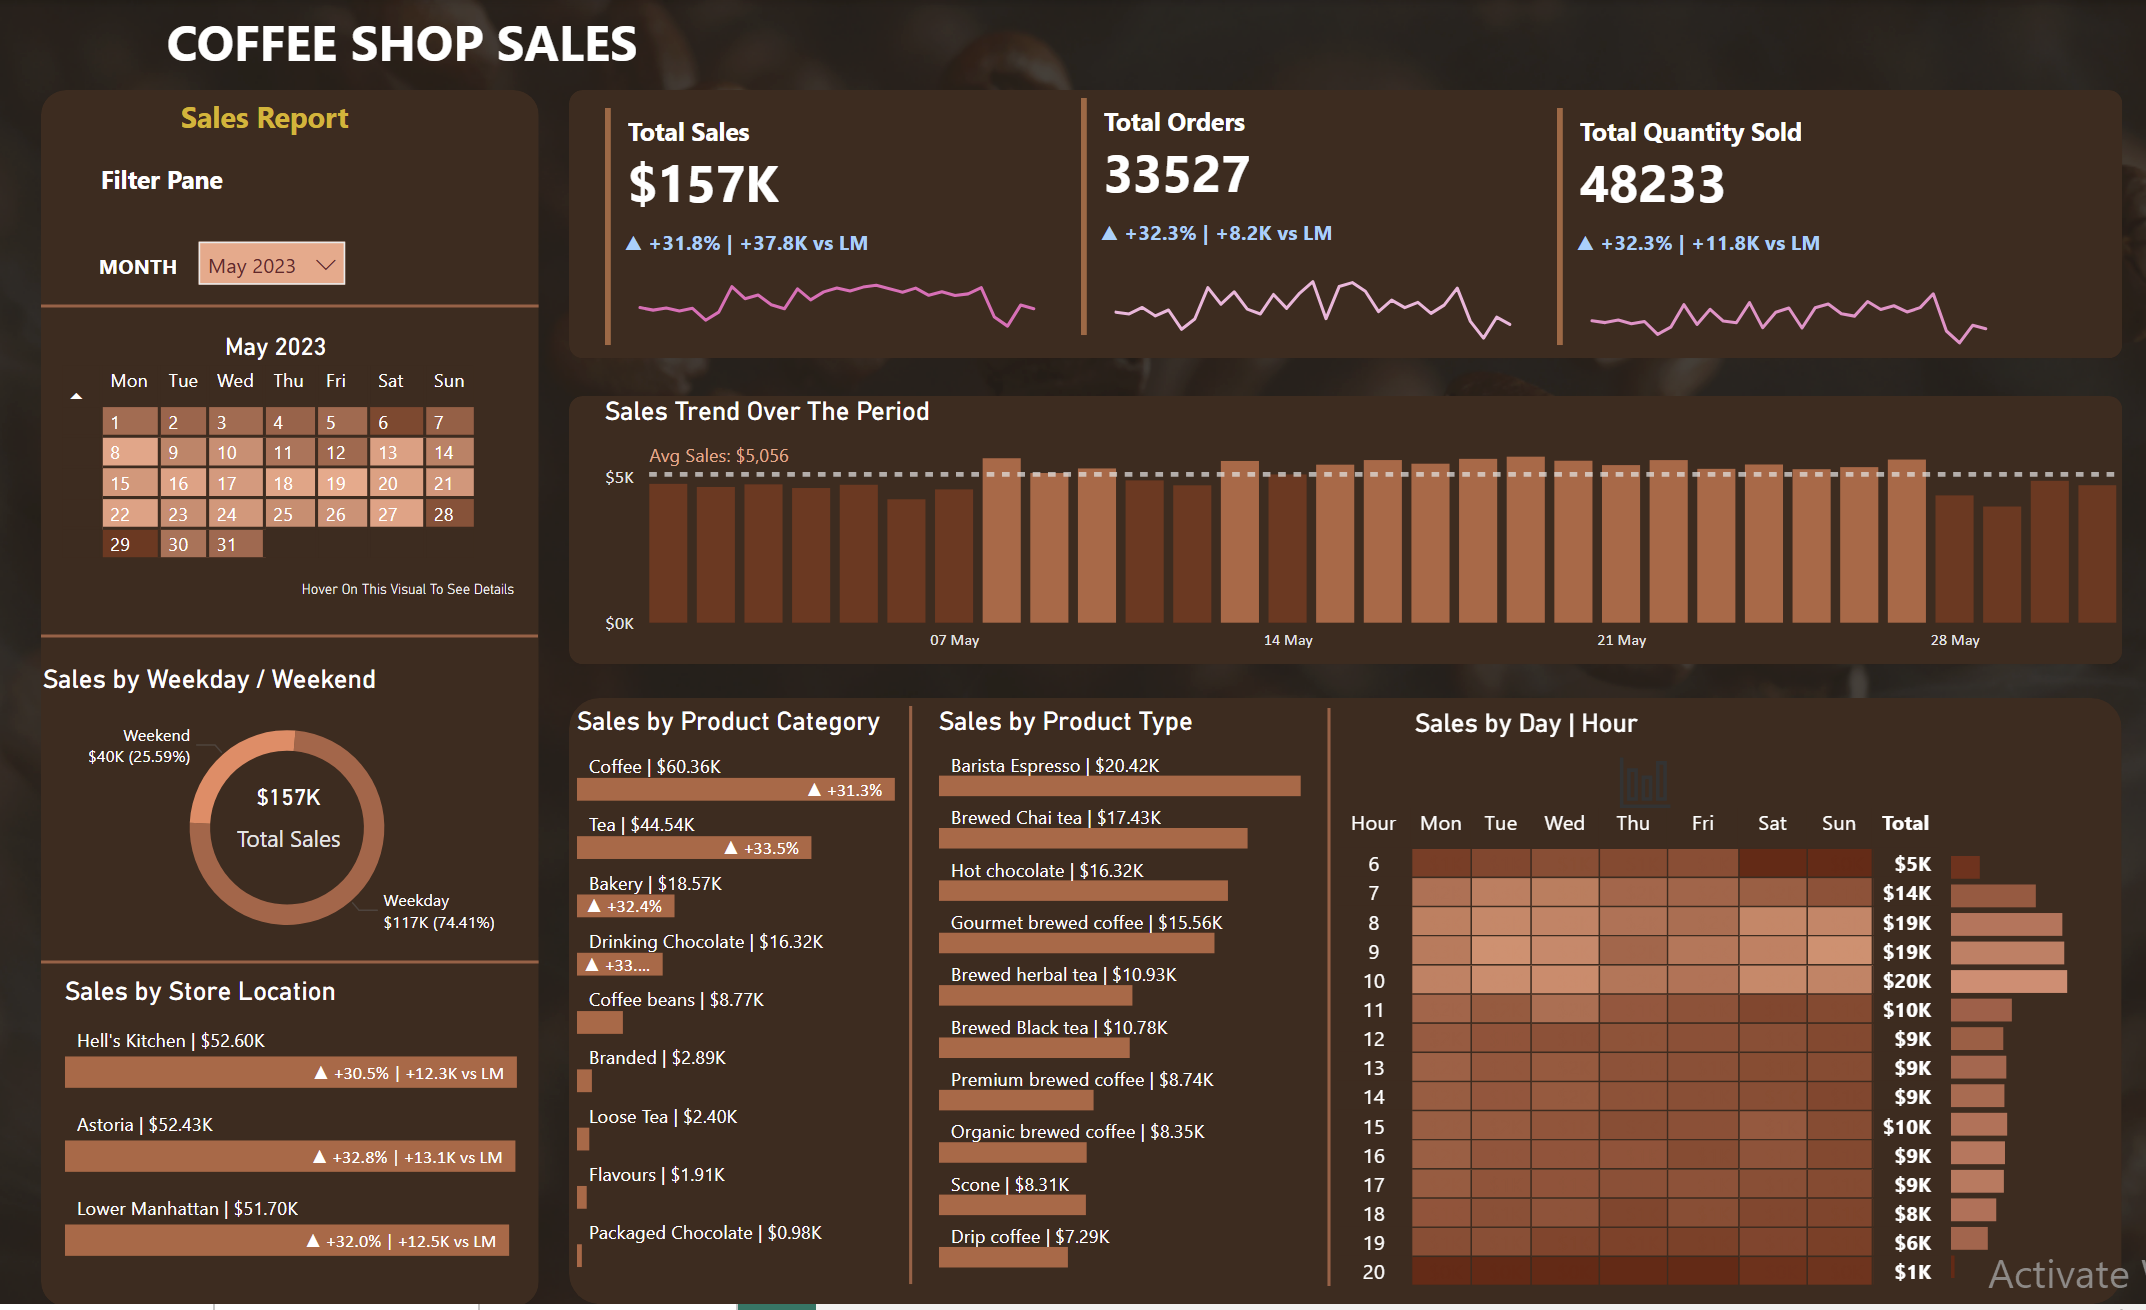

What the dashboard file says about the page in this screenshot:
{"tool":"powerbi","page":{"name":"Final Dashboard","canvas":[1400,850],"ordinal":2},"visuals":[{"type":"shape","box":[0,0,1400,200],"z":0},{"type":"shape","box":[28,58.7,324.5,793],"z":1000},{"type":"shape","box":[372,58.7,1012.6,174.8],"z":2000},{"type":"textbox","box":[104.9,0,321.7,54.5],"z":3000},{"type":"cardVisual","fields":{"Data":["Transactions.Total Orders"]},"box":[700,58.3,300,165],"z":4000,"group":"g2"},{"type":"cardVisual","fields":{"Data":["Transactions.TOTAL SALES"]},"box":[390,65,300,165],"z":4000,"group":"g1"},{"type":"cardVisual","fields":{"Data":["Transactions.Total Quantity Sold"]},"box":[1010,65,300,165],"z":4000,"group":"g3"},{"type":"slicer","fields":{"Values":["Date Table.month year"]},"box":[125.2,152.5,105.6,37.8],"z":4000},{"type":"group","id":"g1","title":"Group 1","box":[390,65,300,168.3],"z":5000},{"type":"group","id":"g2","title":"Group 1","box":[700,58.3,300,168.3],"z":6000},{"type":"lineChart","fields":{"Category":["Date Table.Date.Variation.Date Hierarchy.Year","Date Table.Date.Variation.Date Hierarchy.Quarter","Date Table.Date.Variation.Date Hierarchy.Month","Date Table.Date.Variation.Date Hierarchy.Day"],"Y":["Transactions.Total Orders"]},"box":[713.3,141.6,286.7,85],"z":6000,"group":"g2"},{"type":"lineChart","fields":{"Y":["Transactions.TOTAL SALES"],"Category":["Date Table.Date.Variation.Date Hierarchy.Year","Date Table.Date.Variation.Date Hierarchy.Quarter","Date Table.Date.Variation.Date Hierarchy.Month","Date Table.Date.Variation.Date Hierarchy.Day"]},"box":[403.3,148.3,286.7,85],"z":6000,"group":"g1"},{"type":"lineChart","fields":{"Category":["Date Table.Date.Variation.Date Hierarchy.Year","Date Table.Date.Variation.Date Hierarchy.Quarter","Date Table.Date.Variation.Date Hierarchy.Month","Date Table.Date.Variation.Date Hierarchy.Day"],"Y":["Transactions.Total Quantity Sold"]},"box":[1023.3,148.3,286.7,85],"z":6000,"group":"g3"},{"type":"group","id":"g3","title":"Group 1","box":[1010,65,300,168.3],"z":7000},{"type":"pivotTable","fields":{"Rows":["Date Table.Week Number"],"Columns":["Date Table.Day Name"],"Values":["Min(Date Table.Day Number)"]},"box":[36.7,233.3,300,200],"z":8000},{"type":"cardVisual","fields":{"Data":["Min(Date Table.Month Year)"]},"box":[130,185,120,73.3],"z":9000},{"type":"card","fields":{"Values":["Date Table.Foot Note"]},"box":[129.3,315,274.9,140.2],"z":10000},{"type":"shape","box":[28,618.2,324.5,18.2],"z":11000},{"type":"shape","box":[28,180.4,324.5,39.2],"z":12000},{"type":"donutChart","title":" Sales by Weekday / Weekend","fields":{"Category":["Date Table.Weekday / Weekend"],"Y":["Transactions.Total Sales"]},"box":[23.5,432.8,328.5,194.2],"z":13000},{"type":"card","fields":{"Values":["Transactions.Total Sales"]},"box":[145.5,497.9,85.3,64.3],"z":14000},{"type":"shape","box":[593.5,560.7,324.1,18.2],"z":15000},{"type":"clusteredBarChart","title":" Sales by Store Location","fields":{"Category":["Transactions.store_location"],"Y":["Transactions.Placeholder","Transactions.Total Sales"]},"box":[37.8,636.2,333.7,190.3],"z":16000},{"type":"shape","box":[371.4,455.1,1012.2,395.1],"z":16500},{"type":"shape","box":[372,258.7,1012.6,174.8],"z":17000},{"type":"columnChart","title":" Sales Trend Over The Period","fields":{"Category":["Transactions.transaction_date"],"Y":["Transactions.Total Sales"]},"box":[389.6,258.5,999.5,174.8],"z":18000},{"type":"clusteredBarChart","title":" Sales by Product Category","fields":{"Y":["Transactions.Placeholder","Transactions.Total Sales"],"Category":["Transactions.product_category"]},"box":[371.4,460.6,249.4,371.4],"z":20000},{"type":"shape","box":[27.3,406,324.1,18.2],"z":20001},{"type":"shape","box":[560.7,460.6,67.4,376.9],"z":20002},{"type":"clusteredBarChart","title":" Sales by Product Type","fields":{"Y":["Transactions.Placeholder","Transactions.Total Sales"],"Category":["Transactions.product_type"]},"box":[607.5,460.2,281.6,371.5],"z":20003},{"type":"shape","box":[833.1,461.5,67.8,376.8],"z":20004},{"type":"pivotTable","fields":{"Rows":["Transactions.Hour"],"Columns":["Date Table.Day Name"],"Values":["Transactions.Total Sales"]},"box":[866.9,521.5,507.1,328.5],"z":20005},{"type":"barChart","fields":{"Category":["Transactions.Hour"],"Y":["Transactions.Total Sales"]},"box":[1267.2,544.9,87.3,293.3],"z":20007},{"type":"columnChart","title":"Sales by Day | Hour","fields":{"Y":["Transactions.Total Sales"],"Category":["Date Table.Day Name"]},"box":[917.8,451.1,310.3,79.5],"z":20008},{"type":"textbox","box":[60,159,70.4,31.3],"z":20009},{"type":"textbox","box":[113.4,58.7,130.4,40.4],"z":20010},{"type":"textbox","box":[61.3,100.4,182.5,52.1],"z":20011}]}

Visuals, with their boxes in screenshot pixels (x1, y1, x2, y2), scaled from the page's 1400x850 canvas onto the 2146x1310 screenshot:
shape: box(0, 0, 2145, 308)
shape: box(43, 90, 540, 1309)
shape: box(570, 90, 2122, 360)
textbox: box(161, 0, 654, 84)
cardVisual - Transactions.Total Orders: box(1073, 90, 1533, 344)
cardVisual - Transactions.TOTAL SALES: box(598, 100, 1058, 354)
cardVisual - Transactions.Total Quantity Sold: box(1548, 100, 2008, 354)
slicer - Date Table.month year: box(192, 235, 354, 293)
"Group 1" group: box(598, 100, 1058, 360)
"Group 1" group: box(1073, 90, 1533, 349)
lineChart - Date Table.Date.Variation.Date Hierarchy.Year x Date Table.Date.Variation.Date Hierarchy.Quarter: box(1093, 218, 1533, 349)
lineChart - Transactions.TOTAL SALES x Date Table.Date.Variation.Date Hierarchy.Year: box(618, 229, 1058, 360)
lineChart - Date Table.Date.Variation.Date Hierarchy.Year x Date Table.Date.Variation.Date Hierarchy.Quarter: box(1569, 229, 2008, 360)
"Group 1" group: box(1548, 100, 2008, 360)
pivotTable - Date Table.Week Number x Date Table.Day Name: box(56, 360, 516, 668)
cardVisual - Min(Date Table.Month Year): box(199, 285, 383, 398)
card - Date Table.Foot Note: box(198, 485, 620, 702)
shape: box(43, 953, 540, 981)
shape: box(43, 278, 540, 338)
" Sales by Weekday / Weekend" donutChart: box(36, 667, 540, 966)
card - Transactions.Total Sales: box(223, 767, 354, 866)
shape: box(910, 864, 1407, 892)
" Sales by Store Location" clusteredBarChart: box(58, 980, 569, 1274)
shape: box(569, 701, 2121, 1309)
shape: box(570, 399, 2122, 668)
" Sales Trend Over The Period" columnChart: box(597, 398, 2129, 668)
" Sales by Product Category" clusteredBarChart: box(569, 710, 952, 1282)
shape: box(42, 626, 539, 654)
shape: box(859, 710, 963, 1291)
" Sales by Product Type" clusteredBarChart: box(931, 709, 1363, 1282)
shape: box(1277, 711, 1381, 1292)
pivotTable - Transactions.Hour x Date Table.Day Name: box(1329, 804, 2106, 1309)
barChart - Transactions.Hour x Transactions.Total Sales: box(1942, 840, 2076, 1292)
"Sales by Day | Hour" columnChart: box(1407, 695, 1883, 818)
textbox: box(92, 245, 200, 293)
textbox: box(174, 90, 374, 153)
textbox: box(94, 155, 374, 235)
